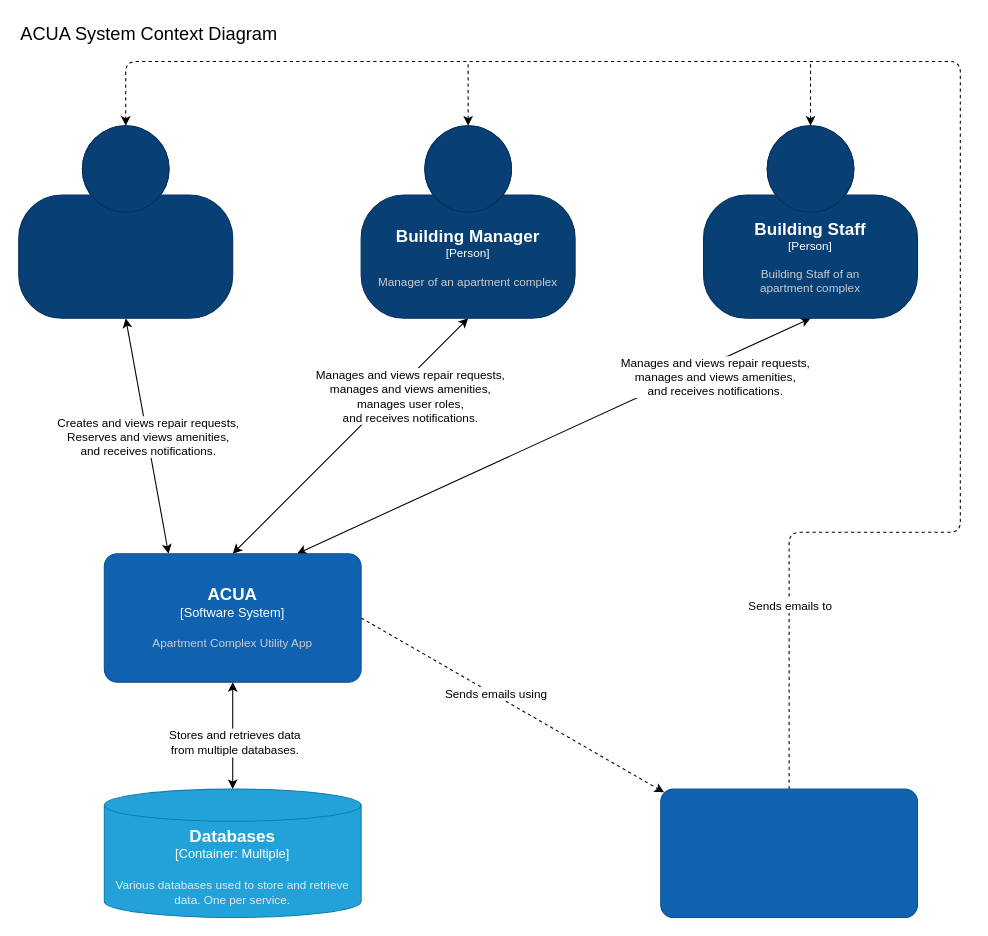
Some shapes in this 988 by 936 pixel diagram are drawn without their labels. Here are the shapes that lost their labels. From the top down, the centre of each, then its label:
point 125,221: Tenant [Person] A tenant of the apartment complex
point 789,853: Email System [Software System] Handles the sending of emails to users.
